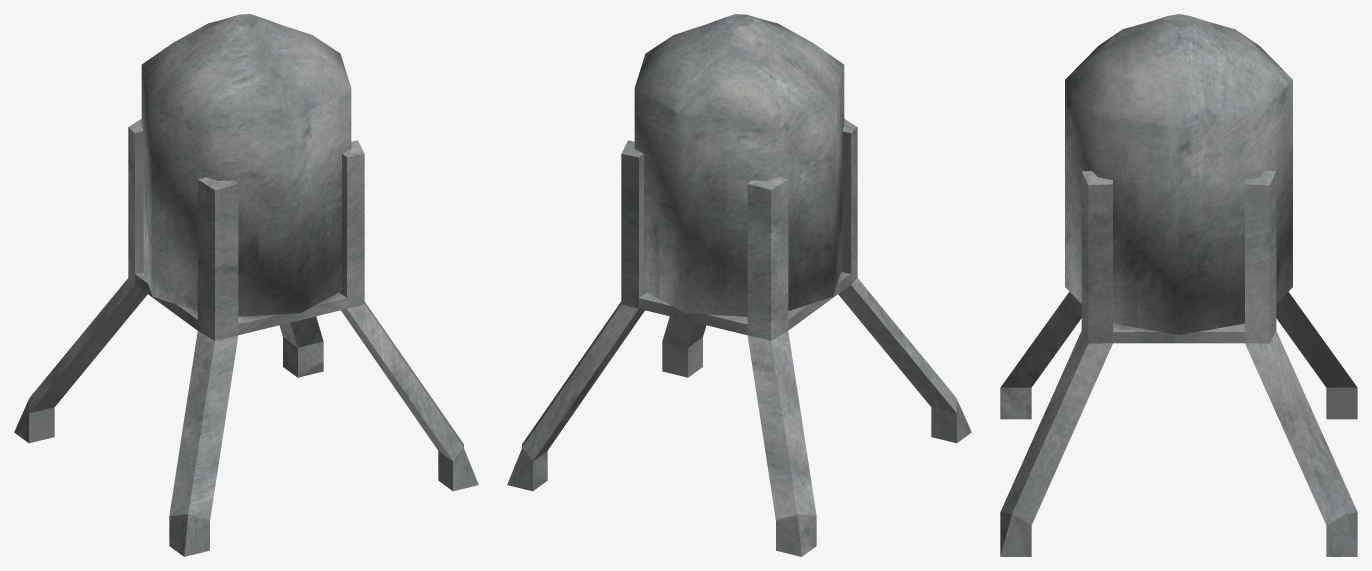
Rendered from WaterTower_Textured.fbx.
3 renders of one model, left to right at view 1: azimuth 30°, elevation 25°; view 2: azimuth 150°, elevation 25°; view 3: azimuth 270°, elevation 25°, orthographic. The views are drawn at different scales.
Parts seen in each view (by area): view 1: obj_waterTower.002; view 2: obj_waterTower.002; view 3: obj_waterTower.002.
Part boxes in pixels (x1,y1,x2,y2): obj_waterTower.002: (14, 14, 478, 556); obj_waterTower.002: (507, 14, 971, 556); obj_waterTower.002: (1000, 14, 1357, 556).
Size of the model in its own units: 28.93 by 41.15 by 28.93.
1 material, 1 textured.
